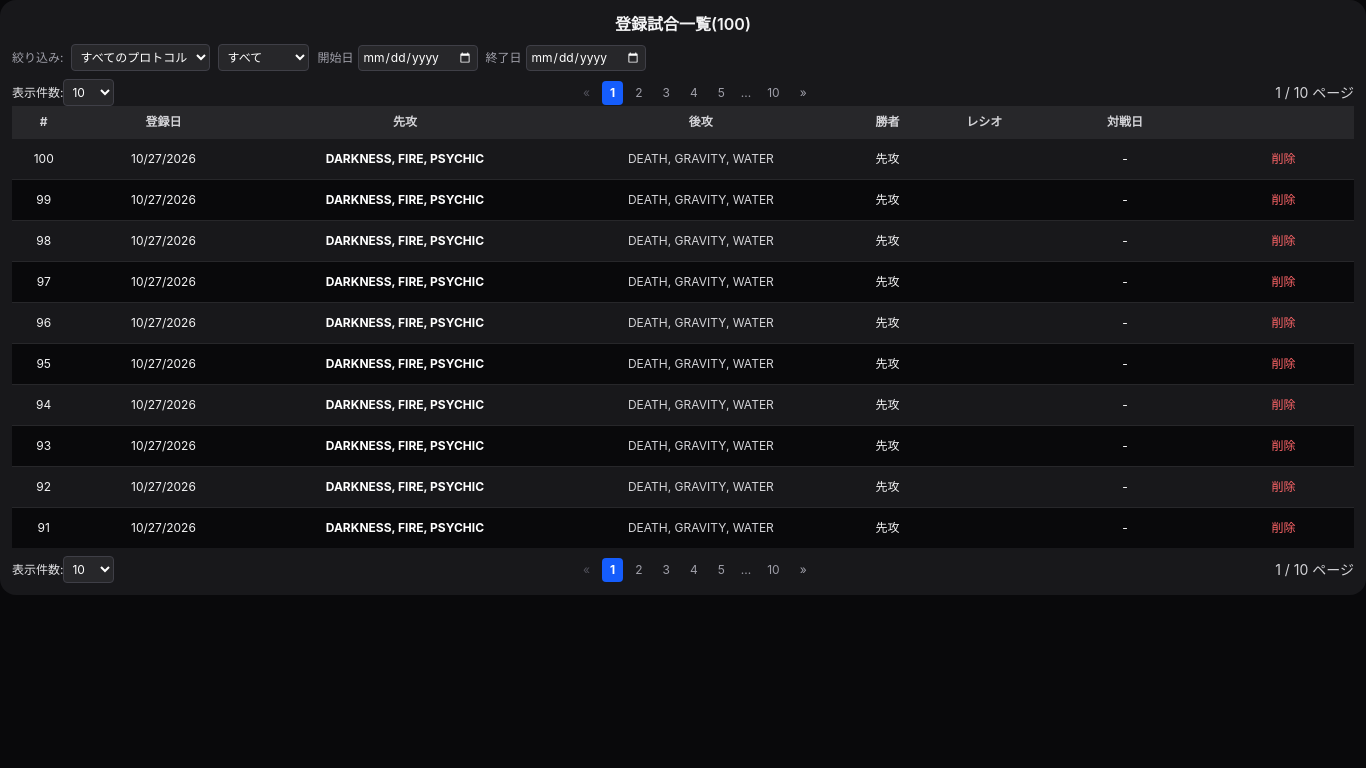
Test case: MatchList › pagination – pageNumbers generation › 中間（page=5/10）はその前後を含む5ページ分を表示する
# 5ページ目へ移動
Click the 1st button "5".
click(721, 92)  # box [710, 80, 733, 104]
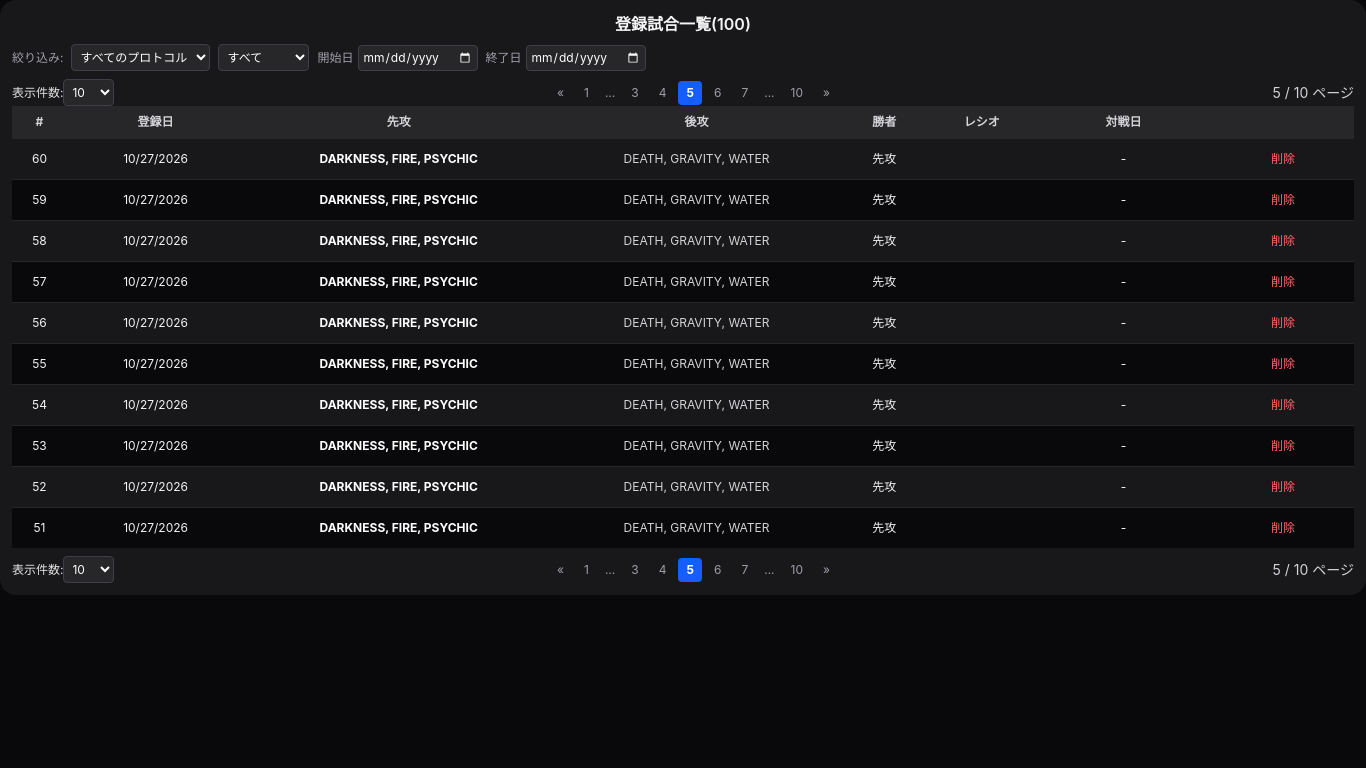
expect the number of buttons "3" is 2: met, box [623, 80, 647, 104]; [623, 558, 647, 582]
expect the number of buttons "4" is 2: met, box [651, 80, 674, 104]; [651, 558, 674, 582]
expect the number of buttons "5" is 2: met, box [678, 80, 702, 104]; [678, 558, 702, 582]
